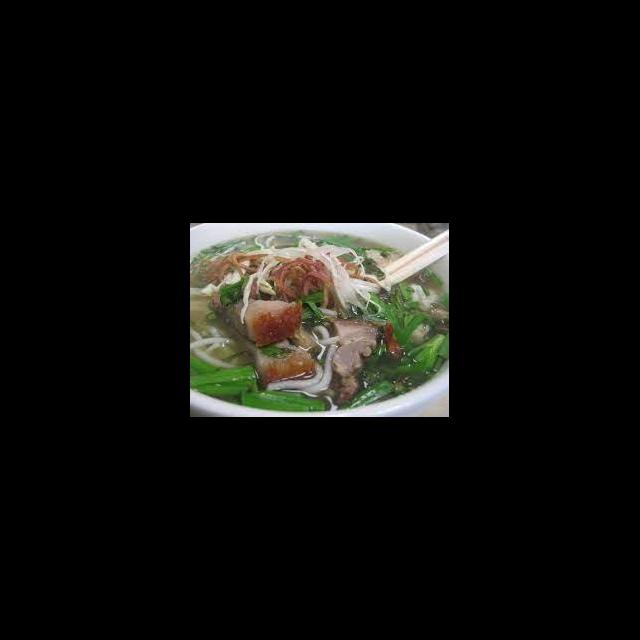bun: (264, 324, 344, 398), (192, 307, 244, 374)
thit heo quay: (205, 281, 306, 349), (248, 331, 324, 385), (331, 315, 386, 384)
